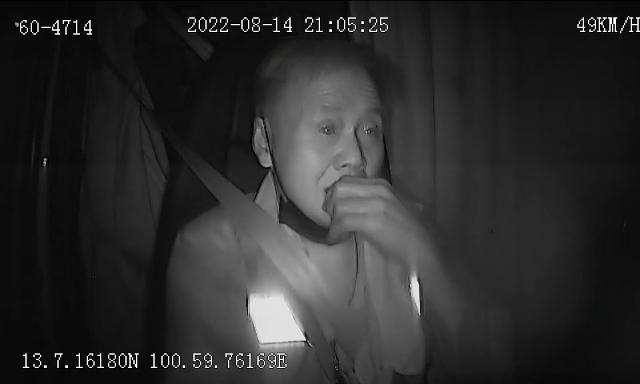SafeDriving: (312, 111, 343, 142), (356, 112, 384, 143)
Seatbelt: (173, 131, 357, 384)
